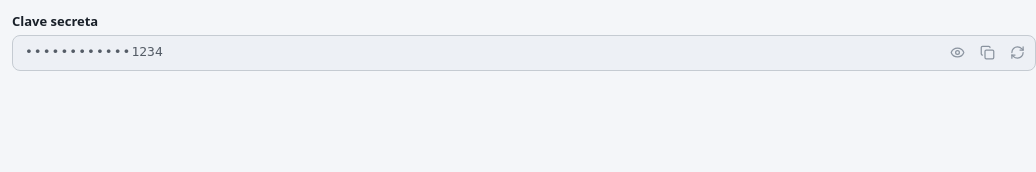
25 CampoSecreto › llega tapado, se destapa y regenera
This screenshot has width=1036, height=172.
Later steps or results of the test are not shown.
expect the element with class "c-secreto__valor" does not show "sk_demo": met
expect the element with class "c-secreto__valor" shows "1234": met, box x1=131 y1=44 x2=163 y2=59
Click the button named "Mostrar Clave secreta".
click(957, 53)  # box x1=943 y1=39 x2=971 y2=67
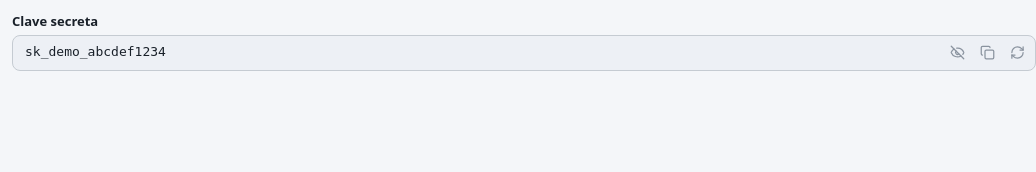
expect the text with class "c-secreto__valor" reads "sk_demo_abcdef1234": met, box x1=25 y1=44 x2=166 y2=59
